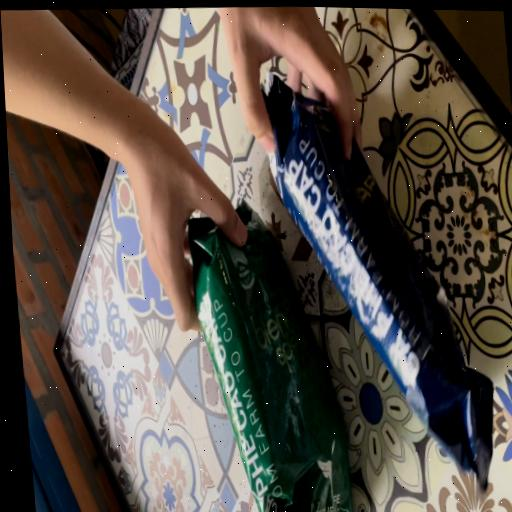cafe_hat: (260, 73, 492, 488)
cafe_xay: (188, 201, 353, 512)
